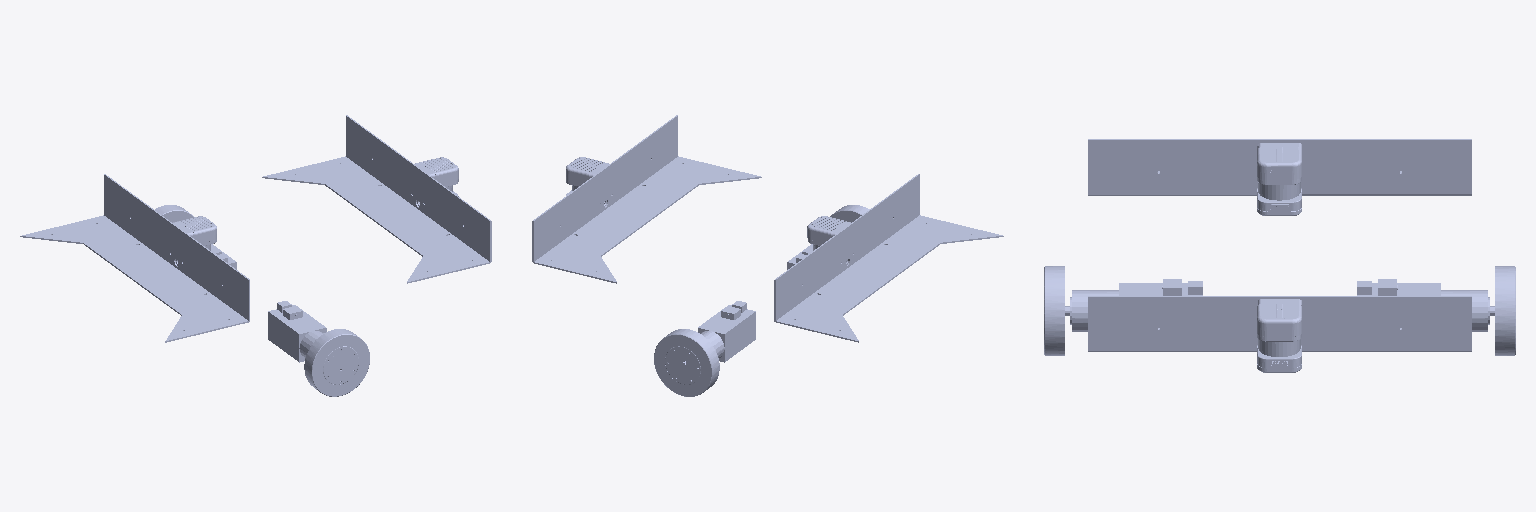
robot.urdf — ip200:
<?xml version="1.0" encoding="utf-8"?>
<!-- This URDF was automatically created by SolidWorks to URDF Exporter! Originally created by [author] ([email redacted]) 
     Commit Version: 1.6.0-1-g15f4949  Build Version: 1.6.7594.29634
     For more information, please see http://wiki.ros.org/sw_urdf_exporter -->
<robot
  name="ip200">
  <link name="base_footprint"/>

  <joint name="base_joint" type="fixed">
    <parent link="base_footprint"/>
    <child link="base_link" />
    <!-- <origin xyz="0 0 0.0335" rpy="0 0 0"/> -->
    <origin xyz="0 0 0.0335" rpy="0 0 0"/>
  </joint>

  <link
    name="base_link">
    <inertial>
      <origin
        xyz="-8.074233413775E-05 0.00167010666358344 0.253055984044282"
        rpy="0 0 0" />
      <mass
        value="19.2341768436338" />
      <inertia
        ixx="0.73131577307895"
        ixy="0.00084688488709123"
        ixz="0.00164494760727376"
        iyy="0.724104006445325"
        iyz="-5.57752444312045E-05"
        izz="1.39581073958625" />
    </inertial>
    <visual>
      <origin
        xyz="0 0 0"
        rpy="0 0 0" />
      <geometry>
        <mesh
          filename="package://ip200_description/meshes/rw_description.STL" />
      </geometry>
      <material
        name="">
        <color
          rgba="0.792156862745098 0.819607843137255 0.933333333333333 1" />
      </material>
    </visual>
    <collision>
      <origin
        xyz="0 0 0"
        rpy="0 0 0" />
      <geometry>
        <mesh
          filename="package://ip200_description/meshes/rw_description.STL" />
      </geometry>
    </collision>
  </link>
  <link
    name="l_rear_wheel">
    <inertial>
      <origin
        xyz="3.60441696500543E-06 -0.0923002305760895 0.000587940142489175"
        rpy="0 0 0" />
      <mass
        value="1.04815459938863" />
      <inertia
        ixx="0.00261088701633814"
        ixy="1.31102007184665E-08"
        ixz="-3.81505861905977E-08"
        iyy="0.00121500177792377"
        iyz="3.58019706903565E-05"
        izz="0.00258940454618749" />
    </inertial>
    <visual>
      <origin
        xyz="0 0 0"
        rpy="0 0 0" />
      <geometry>
        <mesh
          filename="package://ip200_description/meshes/l_rear_wheel.STL" />
      </geometry>
      <material
        name="">
        <color
          rgba="0.792156862745098 0.819607843137255 0.933333333333333 1" />
      </material>
    </visual>
    <collision>
      <origin
        xyz="0 0 0"
        rpy="0 0 0" />
      <geometry>
        <mesh
          filename="package://ip200_description/meshes/l_rear_wheel.STL" />
      </geometry>
    </collision>
  </link>
  <joint
    name="l_rear_wheel"
    type="continuous">
    <origin
      xyz="0 0.3405 0.0649999999999999"
      rpy="0 0 0" />
    <parent
      link="base_link" />
    <child
      link="l_rear_wheel" />
    <axis
      xyz="0 -1 0" />
  </joint>
  <link
    name="r_rear_wheel">
    <inertial>
      <origin
        xyz="-1.93085150211863E-07 0.0922981752597209 0.000601150921649272"
        rpy="0 0 0" />
      <mass
        value="1.04812748709294" />
      <inertia
        ixx="0.00261080454514841"
        ixy="1.80765553467149E-08"
        ixz="8.41125092686639E-09"
        iyy="0.00121496443053289"
        iyz="-3.57478245635109E-05"
        izz="0.0025893893403154" />
    </inertial>
    <visual>
      <origin
        xyz="0 0 0"
        rpy="0 0 0" />
      <geometry>
        <mesh
          filename="package://ip200_description/meshes/r_rear_wheel.STL" />
      </geometry>
      <material
        name="">
        <color
          rgba="0.792156862745098 0.819607843137255 0.933333333333333 1" />
      </material>
    </visual>
    <collision>
      <origin
        xyz="0 0 0"
        rpy="0 0 0" />
      <geometry>
        <mesh
          filename="package://ip200_description/meshes/r_rear_wheel.STL" />
      </geometry>
    </collision>
  </link>
  <joint
    name="r_rear_wheel"
    type="continuous">
    <origin
      xyz="0 -0.3405 0.0649999999996"
      rpy="0 0 0" />
    <parent
      link="base_link" />
    <child
      link="r_rear_wheel" />
    <axis
      xyz="0 1 0" />
  </joint>
  <link
    name="front_lidar">
    <inertial>
      <origin
        xyz="-0.0633925543300677 -6.19753136898854E-05 -0.0147536372771876"
        rpy="0 0 0" />
      <mass
        value="0.385651153728386" />
      <inertia
        ixx="0.00973637361531699"
        ixy="-4.55675275538205E-11"
        ixz="-0.000217121449304545"
        iyy="0.000870251294406086"
        iyz="1.24939133642565E-11"
        izz="0.00999879780357618" />
    </inertial>
    <visual>
      <origin
        xyz="0 0 0"
        rpy="0 0 0" />
      <geometry>
        <mesh
          filename="package://ip200_description/meshes/front_lidar.STL" />
      </geometry>
      <material
        name="">
        <color
          rgba="0.792156862745098 0.819607843137255 0.933333333333333 1" />
      </material>
    </visual>
    <collision>
      <origin
        xyz="0 0 0"
        rpy="0 0 0" />
      <geometry>
        <mesh
          filename="package://ip200_description/meshes/front_lidar.STL" />
      </geometry>
    </collision>
  </link>
  <joint
    name="front_lidar"
    type="continuous">
    <origin
      xyz="0.4078605350155 0 0.2092511729546"
      rpy="0 0 0" />
    <parent
      link="base_link" />
    <child
      link="front_lidar" />
    <axis
      xyz="0 0 1" />
  </joint>

  <link
    name="rear_lidar">
    <inertial>
      <origin
        xyz="0.0633895966524598 6.19753136896356E-05 -0.0147536372771875"
        rpy="0 0 0" />
      <mass
        value="0.385651153728386" />
      <inertia
        ixx="0.00973637361531705"
        ixy="-4.55675265329909E-11"
        ixz="0.000217099148045366"
        iyy="0.000870212405273177"
        iyz="-1.2493916469303E-11"
        izz="0.00999875891444332" />
    </inertial>
    <visual>
      <origin
        xyz="0 0 0"
        rpy="0 0 0" />
      <geometry>
        <mesh
          filename="package://ip200_description/meshes/rear_lidar.STL" />
      </geometry>
      <material
        name="">
        <color
          rgba="0.792156862745098 0.819607843137255 0.933333333333333 1" />
      </material>
    </visual>
    <collision>
      <origin
        xyz="0 0 0"
        rpy="0 0 0" />
      <geometry>
        <mesh
          filename="package://ip200_description/meshes/rear_lidar.STL" />
      </geometry>
    </collision>
  </link>

  <joint
    name="rear_lidar"
    type="continuous">
    <origin
      xyz="-0.1278605350155 0 0.2092511729546"
      rpy="0 0 -3.14" />
    <parent
      link="base_link" />
    <child
      link="rear_lidar" />
    <axis
      xyz="0 0 1" />
  </joint>
</robot>

--- Render facts (derived) ---
3 views of the same robot in one strip: view 1: azimuth 30°, elevation 25°; view 2: azimuth 150°, elevation 25°; view 3: azimuth 270°, elevation 25° (orthographic).
Robot: ip200 — 6 links, 5 joints (4 continuous, 1 fixed); root link base_footprint; default pose: every joint at zero.
Links seen in each view (by area): view 1: front_lidar, rear_lidar, r_rear_wheel, l_rear_wheel; view 2: rear_lidar, front_lidar, l_rear_wheel, r_rear_wheel; view 3: rear_lidar, front_lidar, l_rear_wheel, r_rear_wheel.
Boxes of the visible links, x1,y1,x2,y2 form: front_lidar: (262,115,491,283); rear_lidar: (20,174,249,342); r_rear_wheel: (268,301,369,396); l_rear_wheel: (155,205,236,269); rear_lidar: (774,174,1003,342); front_lidar: (532,115,761,283); l_rear_wheel: (654,301,755,396); r_rear_wheel: (787,205,869,269); rear_lidar: (1088,139,1471,215); front_lidar: (1088,296,1471,372); l_rear_wheel: (1357,266,1515,355); r_rear_wheel: (1044,266,1202,355).
Size in the robot's own frame: 0.7996 by 0.681 by 0.2605 metres.
Meshes: 5 distinct files referenced, 4 mesh visuals loaded (4 binary STL); not drawn: 1 (reference not matched to a file when rendering).
